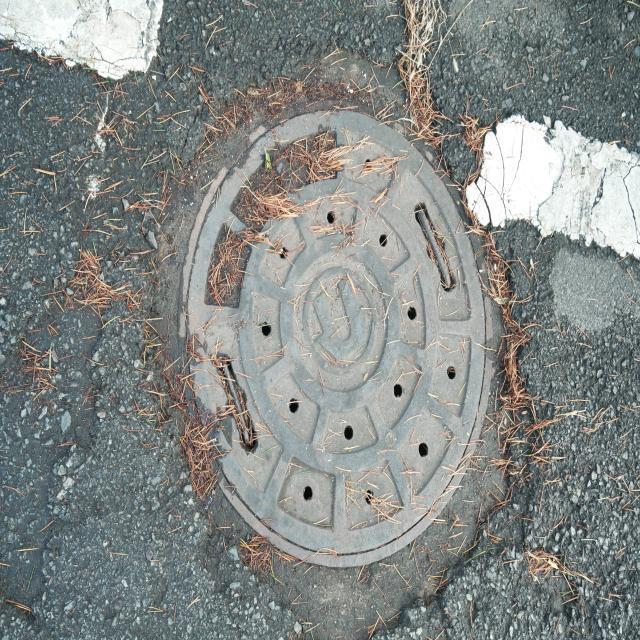manhole: (180, 111, 499, 567)
